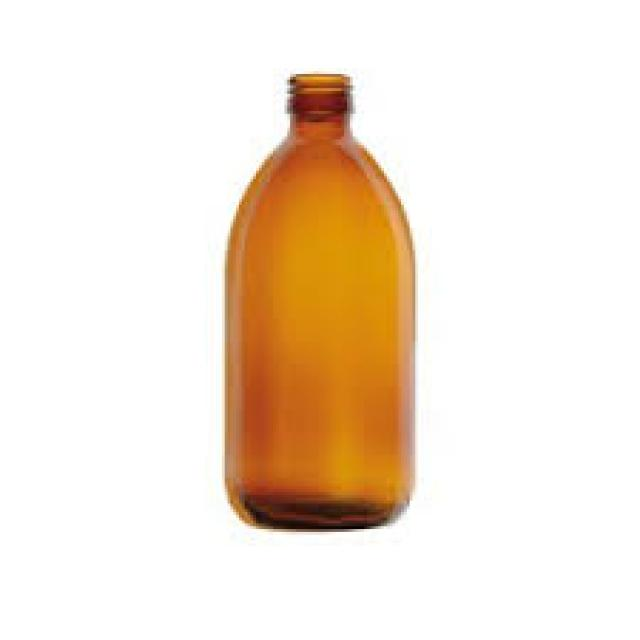glass: (222, 71, 412, 529)
